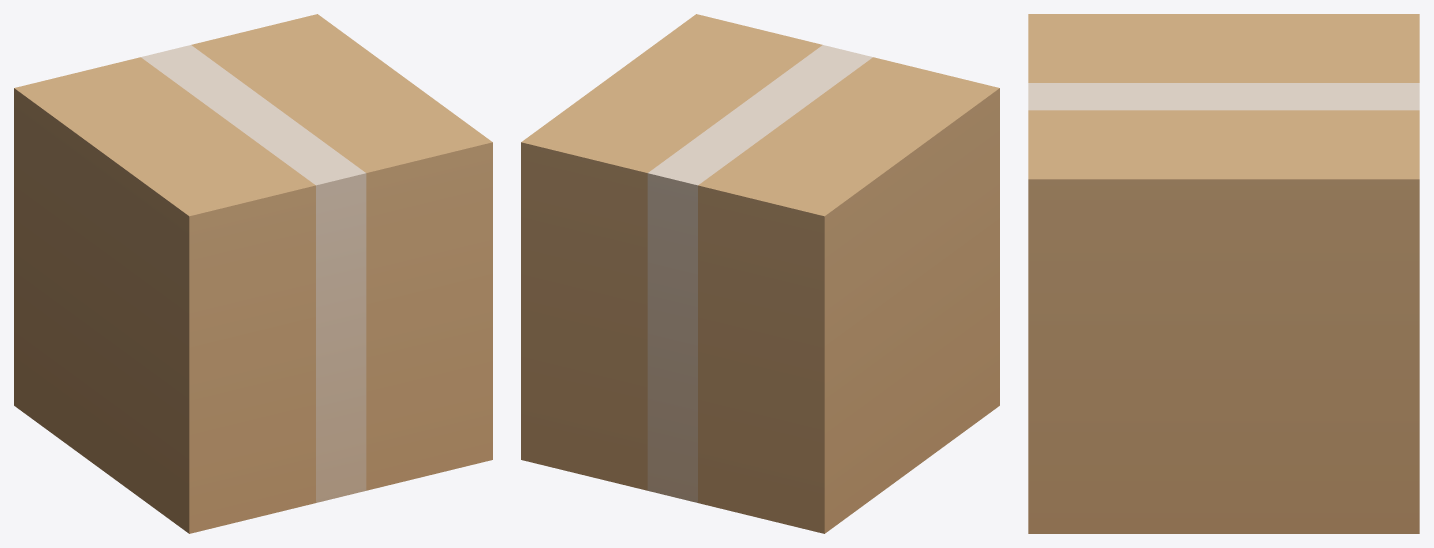
3 views of the same model, side by side, from view 1: azimuth 30°, elevation 25°; view 2: azimuth 150°, elevation 25°; view 3: azimuth 270°, elevation 25° (orthographic). The views are drawn at different scales.
Visible parts, largest first — view 1: box_A; view 2: box_A; view 3: box_A.
Part boxes in pixels (x1,y1,x2,y2): box_A: (14,14,492,533); box_A: (521,14,999,533); box_A: (1028,14,1419,533).
Size of the model in its own units: 1 by 1 by 1.
Materials: 1 (1 with a texture image).
